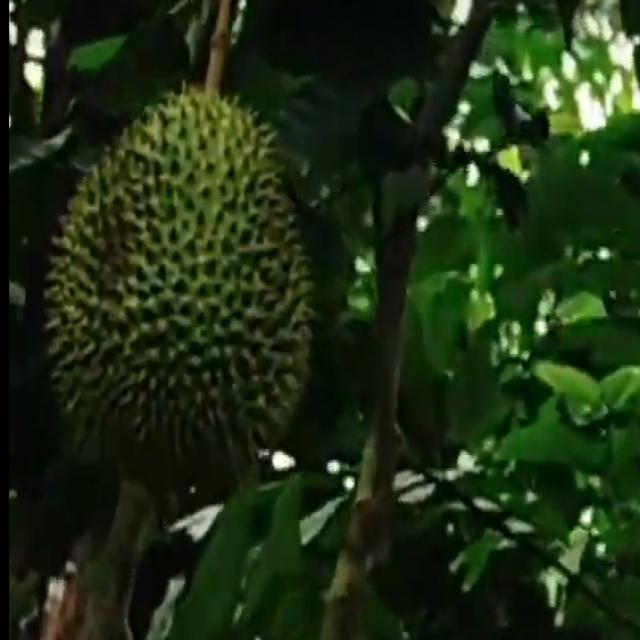immature: (43, 80, 314, 506)
